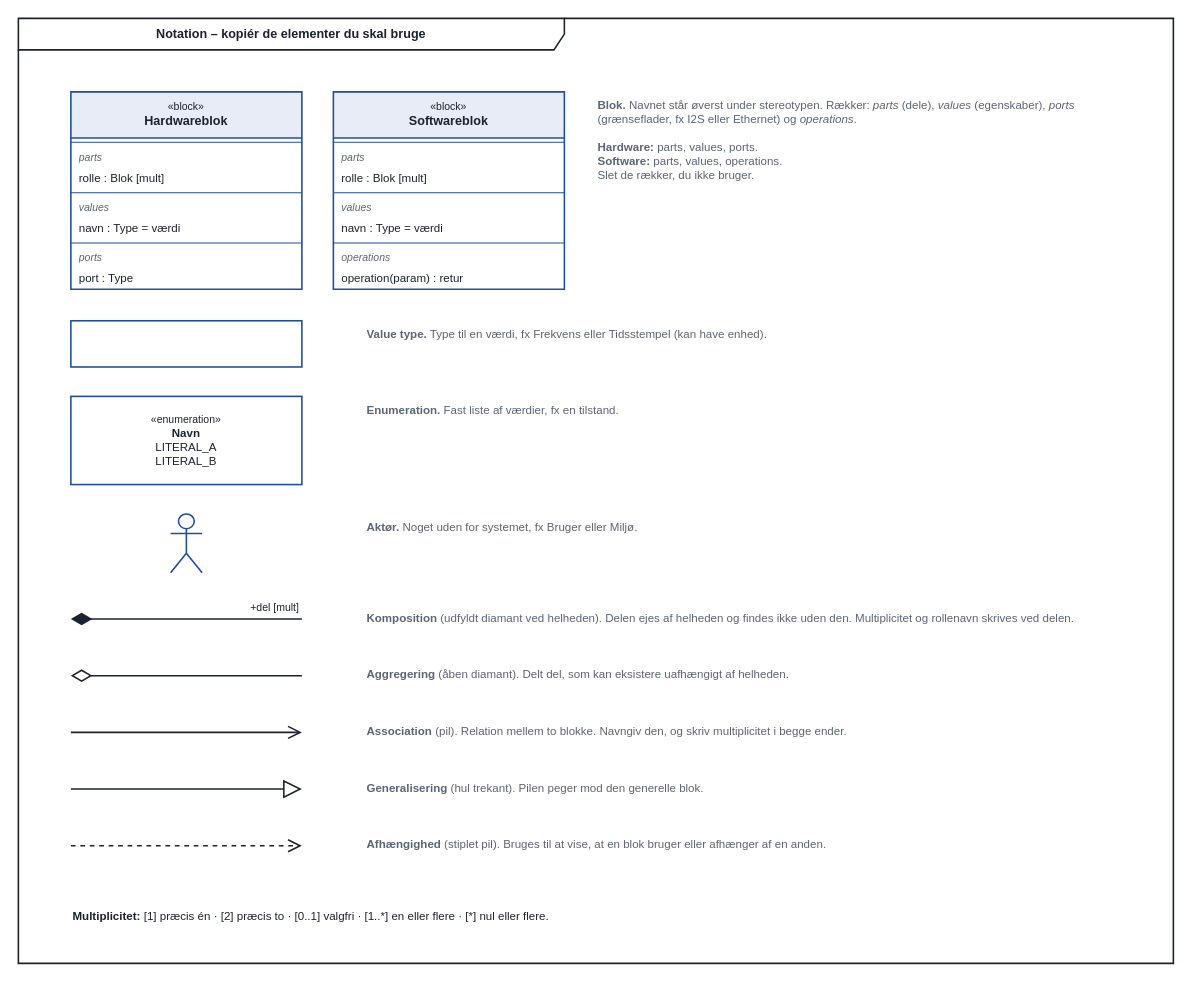
Some shapes in this 1193 by 983 pixel diagram are drawn without their labels. Each missing label, with the centre of its shape:
"«actor» Navn" goes at (x=185, y=543).
"«valueType» Navn" goes at (x=186, y=343).
